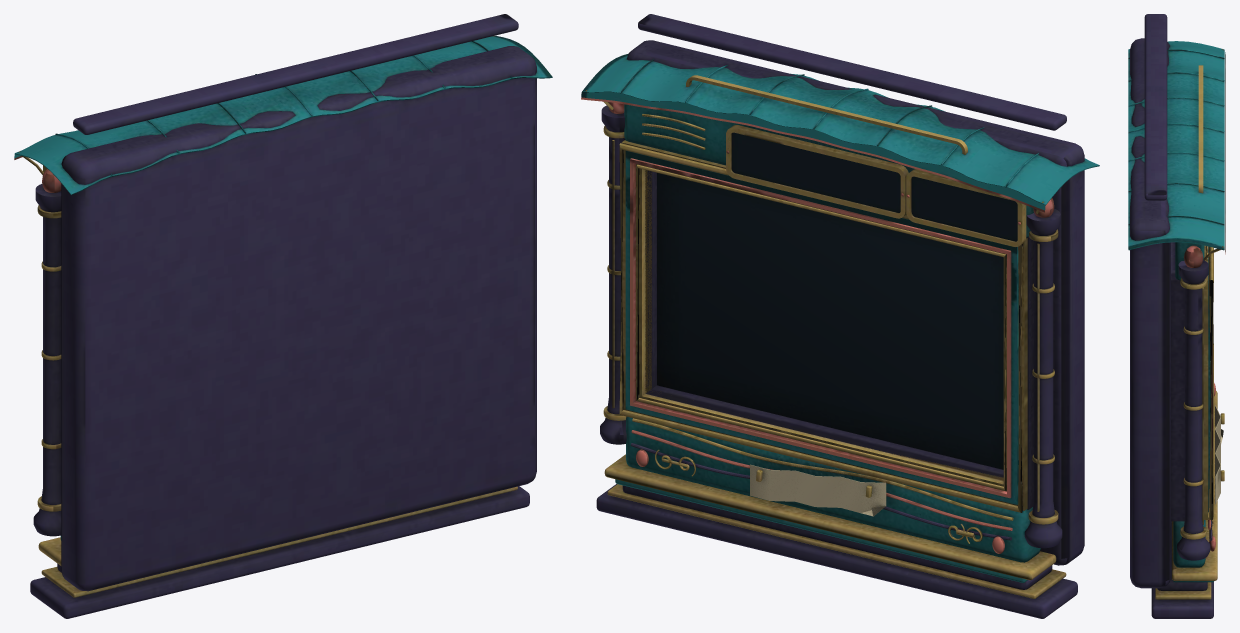
The picture shows the model from 3 angles, left to right: view 1: azimuth 30°, elevation 25°; view 2: azimuth 150°, elevation 25°; view 3: azimuth 270°, elevation 25°; orthographic projection. The views are drawn at different scales.
Visible parts, largest first — view 1: Violet_expedition_housing, Woven_teal_canopy, Survey_brass; view 2: Uniform_dark_inset, Violet_expedition_housing, Woven_teal_canopy, Survey_brass, Coral_enamel, Folded_parchment; view 3: Violet_expedition_housing, Woven_teal_canopy, Survey_brass, Coral_enamel, Folded_parchment.
Boxes of the visible parts, x1,y1,x2,y2 form: Violet_expedition_housing: (30,14,536,618); Woven_teal_canopy: (14,36,552,540); Survey_brass: (19,36,517,597); Uniform_dark_inset: (657,132,1017,469); Violet_expedition_housing: (596,14,1084,618); Woven_teal_canopy: (581,53,1099,582); Survey_brass: (585,75,1066,598); Coral_enamel: (581,97,1054,553); Folded_parchment: (750,464,886,516); Violet_expedition_housing: (1130,14,1213,618); Woven_teal_canopy: (1128,41,1225,582); Survey_brass: (1155,49,1224,599); Coral_enamel: (1184,54,1225,551); Folded_parchment: (1215,405,1223,504).
Size of the model in its own units: 8.8 by 8.6 by 1.81.
6 materials, 6 textured.
